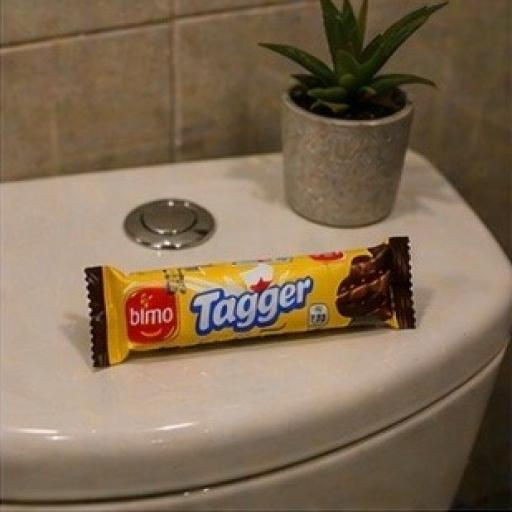tagger: (40, 136, 442, 390)
